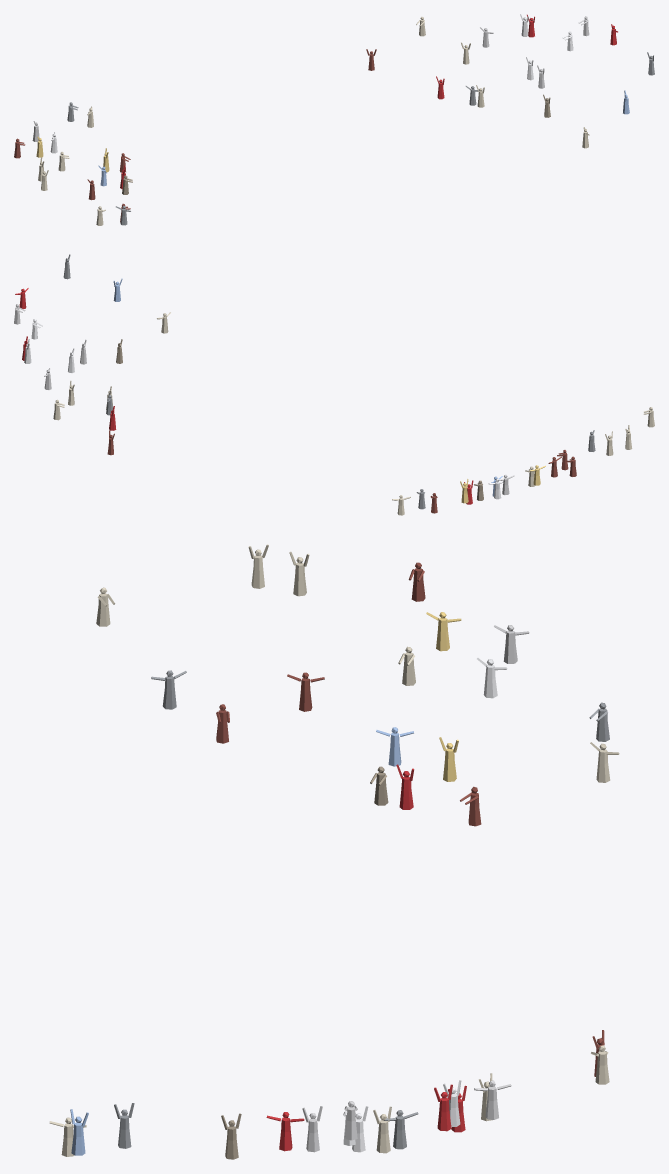
Rendered from Guests1.obj.
The picture shows the model from 3 angles, top to bottom: view 1: azimuth 30°, elevation 25°; view 2: azimuth 150°, elevation 25°; view 3: azimuth 270°, elevation 25°; orthographic projection. The views are drawn at different scales.
Visible parts, largest first — view 1: Guests1; view 2: Guests1; view 3: Guests1.
Boxes of the visible parts, left/top/right/bottom form: Guests1: left=14, top=14, right=654, bottom=225; Guests1: left=14, top=254, right=654, bottom=515; Guests1: left=49, top=544, right=619, bottom=1159.
Size of the model in its own units: 81.98 by 10.05 by 34.75.
1 material, 1 textured.
